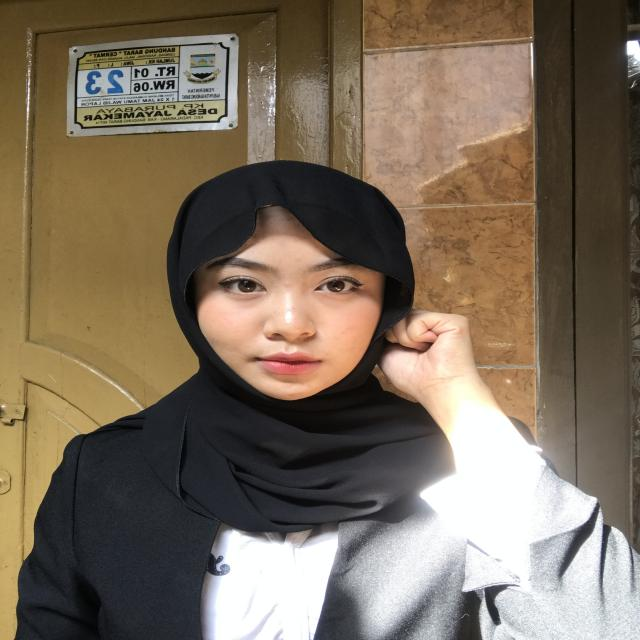ibu: (354, 300, 500, 420)
